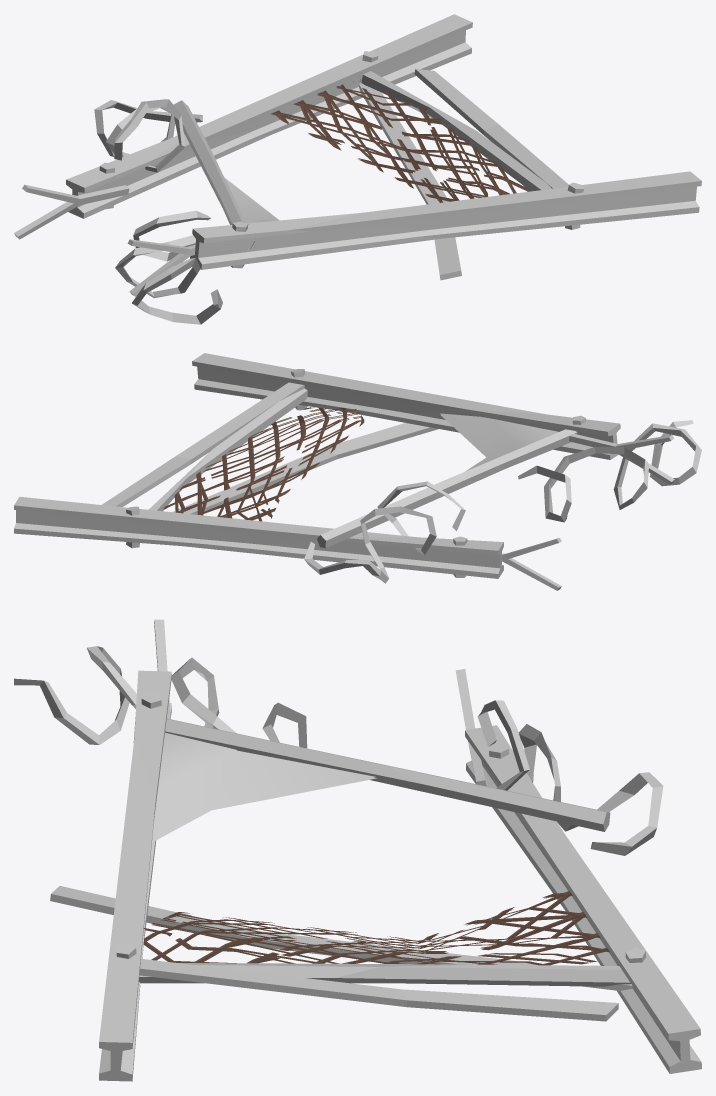
File: SM_Prop_Wall_Wire_Damaged_03.fbx
The picture shows the model from 3 angles, top to bottom: view 1: azimuth 30°, elevation 25°; view 2: azimuth 150°, elevation 25°; view 3: azimuth 270°, elevation 25°; orthographic projection. The views are drawn at different scales.
Parts seen in each view (by area): view 1: SM_Prop_Wall_Wire_Damaged_03; view 2: SM_Prop_Wall_Wire_Damaged_03; view 3: SM_Prop_Wall_Wire_Damaged_03.
Part boxes in pixels (x1,y1,x2,y2): SM_Prop_Wall_Wire_Damaged_03: (14, 14, 701, 324); SM_Prop_Wall_Wire_Damaged_03: (14, 353, 701, 590); SM_Prop_Wall_Wire_Damaged_03: (14, 619, 701, 1081).
Bounding box in the file's own units: 331 × 56.15 × 269.
